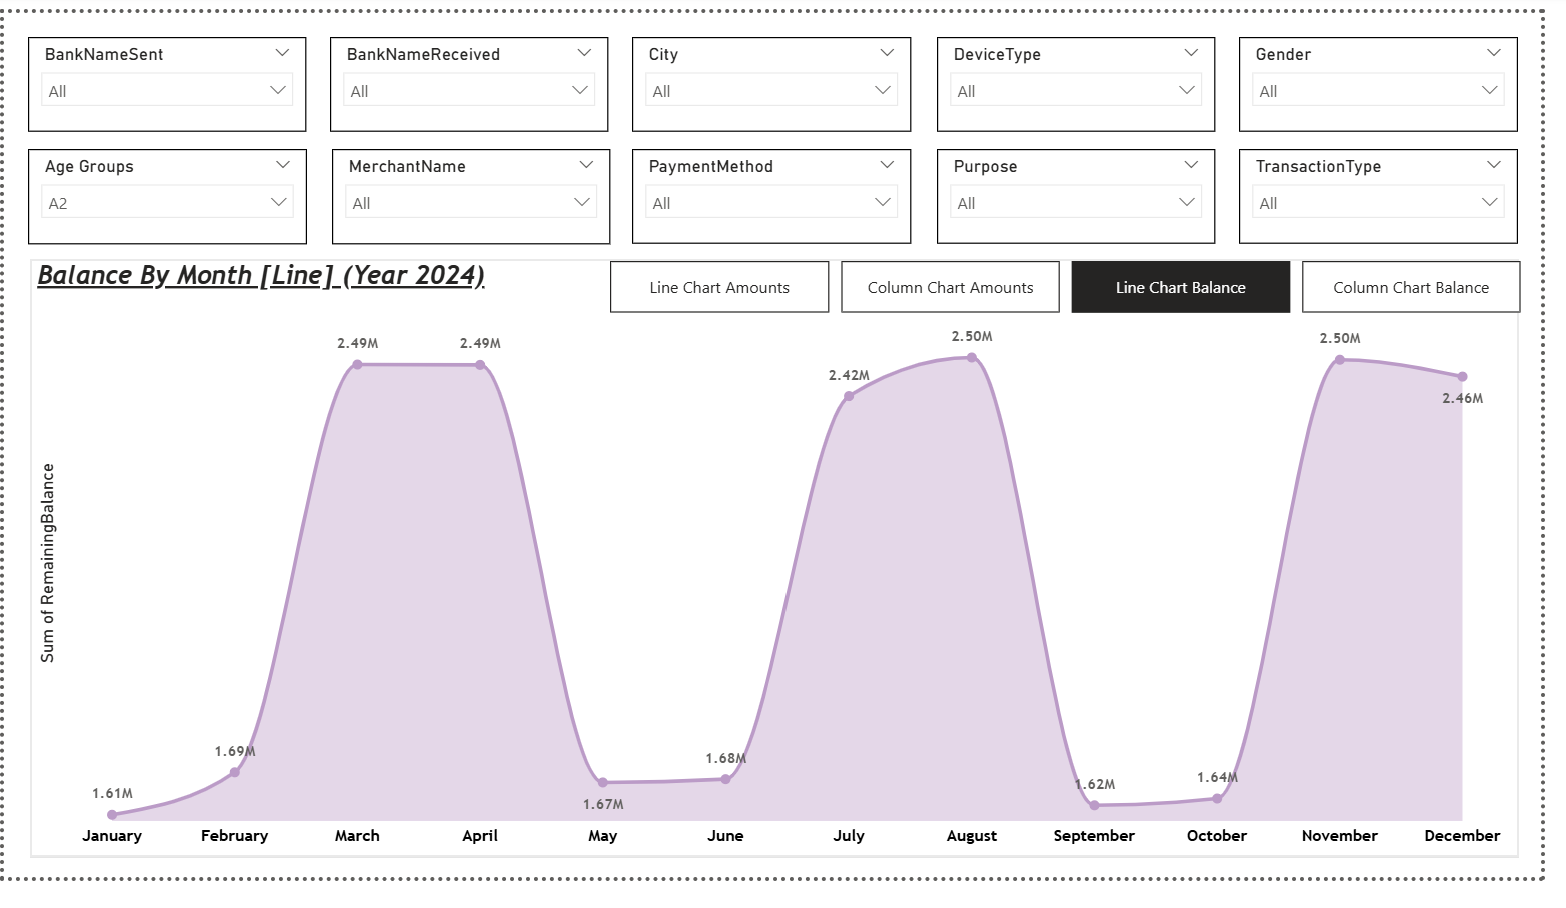

The page's visual inventory and layout, read from the dashboard file:
{"tool":"powerbi","page":{"name":"Page 1","canvas":[1280,720],"ordinal":0},"visuals":[{"type":"slicer","fields":{"Values":["UPI Transactions.BankNameSent"]},"box":[20,20,232,79],"z":0},{"type":"slicer","fields":{"Values":["UPI Transactions.BankNameReceived"]},"box":[272,20,232,79],"z":1000},{"type":"slicer","fields":{"Values":["UPI Transactions.City"]},"box":[524,20,232,79],"z":2000},{"type":"slicer","fields":{"Values":["UPI Transactions.DeviceType"]},"box":[776,20,232,79],"z":3000},{"type":"slicer","fields":{"Values":["UPI Transactions.Gender"]},"box":[1028,20,232.7,79],"z":4000},{"type":"slicer","fields":{"Values":["UPI Transactions.Age Groups"]},"box":[20,113.3,232.7,79.6],"z":5000},{"type":"slicer","fields":{"Values":["UPI Transactions.MerchantName"]},"box":[272.5,113.3,232,79.6],"z":6000},{"type":"slicer","fields":{"Values":["UPI Transactions.PaymentMethod"]},"box":[524,113.4,232,79],"z":7000},{"type":"slicer","fields":{"Values":["UPI Transactions.Purpose"]},"box":[776,113.4,232,79],"z":8000},{"type":"slicer","fields":{"Values":["UPI Transactions.TransactionType"]},"box":[1028,113.4,232.7,79],"z":9000},{"type":"columnChart","title":"Balance By Month [Column] (Year 2024)","fields":{"Category":["UPI Transactions.TransactionDate.Variation.Date Hierarchy.Month"],"Y":["Sum(UPI Transactions.RemainingBalance)"]},"box":[18.9,207.8,1239.9,498.3],"z":12000},{"type":"bookmarkNavigator","box":[504.2,206.2,760.4,43.8],"z":14000}]}

Visuals, with their boxes in screenshot pixels (x1, y1, x2, y2), scaled from the page's 1280x720 canvas onto the 1566x908 screenshot:
slicer - UPI Transactions.BankNameSent: left=24, top=25, right=308, bottom=125
slicer - UPI Transactions.BankNameReceived: left=333, top=25, right=617, bottom=125
slicer - UPI Transactions.City: left=641, top=25, right=925, bottom=125
slicer - UPI Transactions.DeviceType: left=949, top=25, right=1233, bottom=125
slicer - UPI Transactions.Gender: left=1258, top=25, right=1542, bottom=125
slicer - UPI Transactions.Age Groups: left=24, top=143, right=309, bottom=243
slicer - UPI Transactions.MerchantName: left=333, top=143, right=617, bottom=243
slicer - UPI Transactions.PaymentMethod: left=641, top=143, right=925, bottom=243
slicer - UPI Transactions.Purpose: left=949, top=143, right=1233, bottom=243
slicer - UPI Transactions.TransactionType: left=1258, top=143, right=1542, bottom=243
"Balance By Month [Column] (Year 2024)" columnChart: left=23, top=262, right=1540, bottom=890
bookmarkNavigator: left=617, top=260, right=1547, bottom=315
